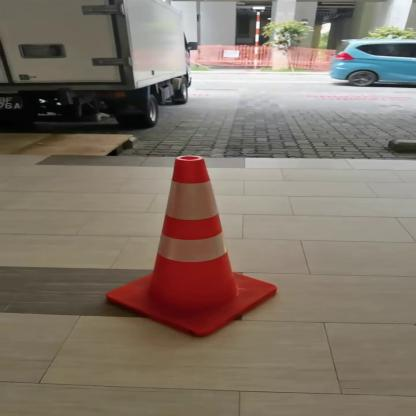cone: (81, 153, 288, 336)
